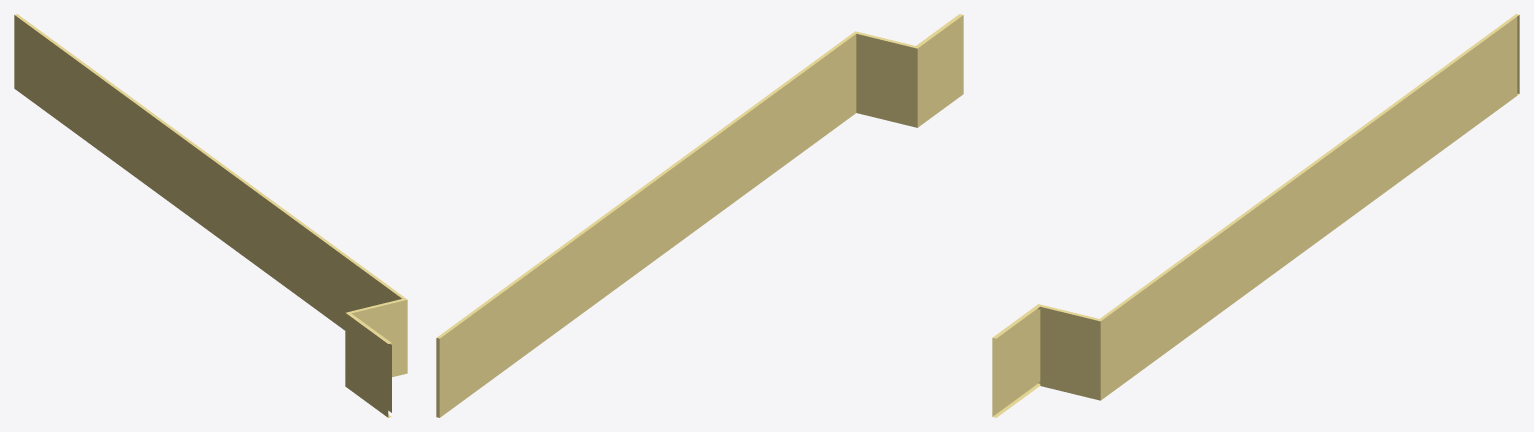
File: interior_school_room_north_lobby_invisible_00.fbx
3 renders of one model, left to right at view 1: azimuth 30°, elevation 25°; view 2: azimuth 150°, elevation 25°; view 3: azimuth 330°, elevation 25°, orthographic. The views are drawn at different scales.
Visible parts, largest first — view 1: Invisible Mesh; view 2: Invisible Mesh; view 3: Invisible Mesh.
Part boxes in pixels (x1=…): Invisible Mesh: x1=14, y1=14, x2=407, y2=417; Invisible Mesh: x1=436, y1=14, x2=963, y2=417; Invisible Mesh: x1=992, y1=14, x2=1519, y2=417.
Size of the model in its own units: 324 by 380 by 4020.
